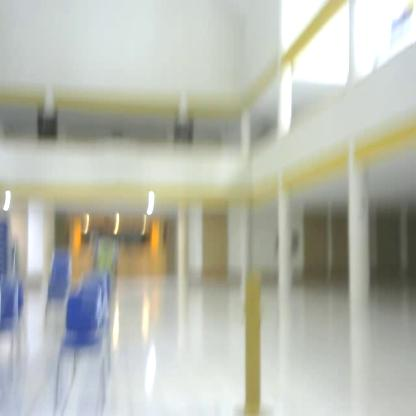pole: (227, 257, 285, 416)
